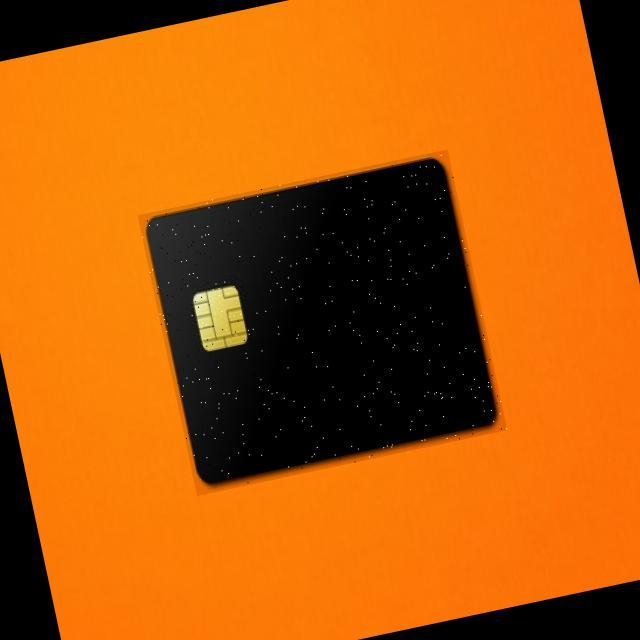payment_card: (140, 150, 501, 486)
